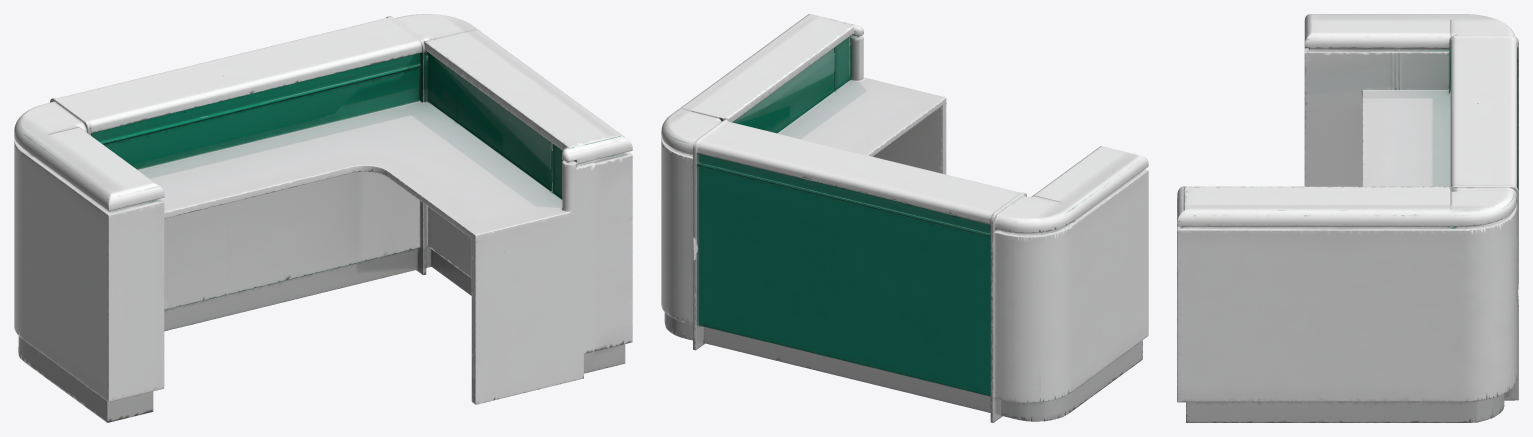
Rendered from desk.glb.
The picture shows the model from 3 angles, left to right: view 1: azimuth 30°, elevation 25°; view 2: azimuth 150°, elevation 25°; view 3: azimuth 270°, elevation 25°; orthographic projection. The views are drawn at different scales.
Bounding box in the file's own units: 2 × 0.9811 × 1.42.
Materials: 1 (1 with a texture image).
